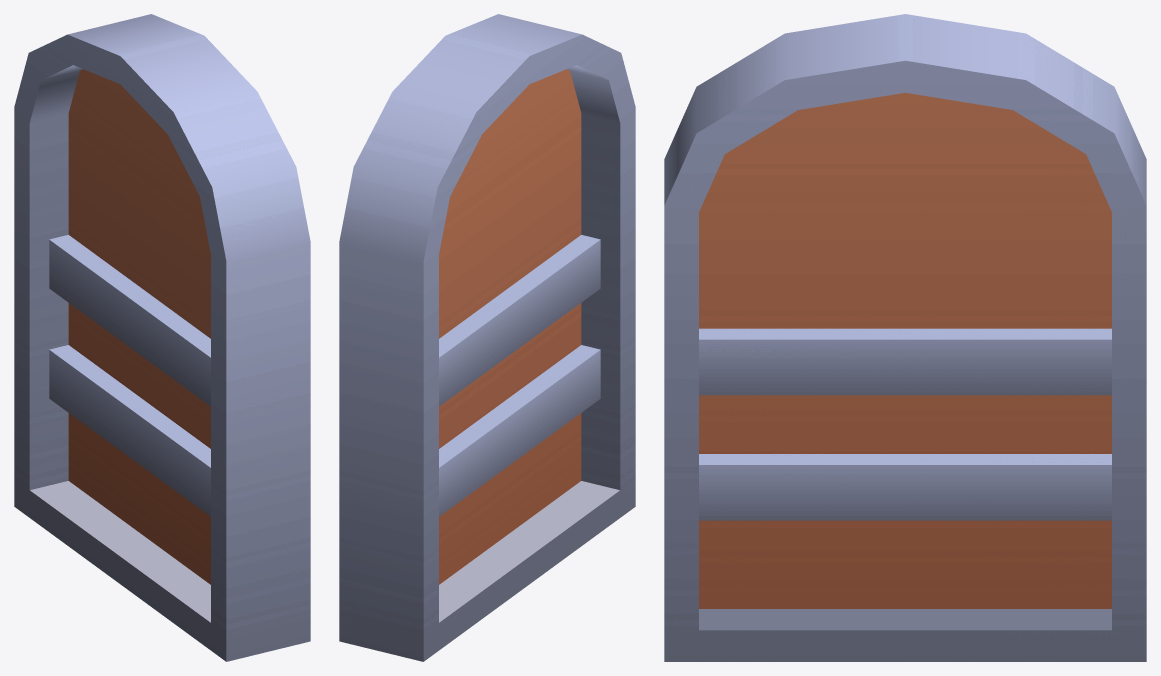
Rendered from gate.glb.
3 renders of one model, left to right at view 1: azimuth 30°, elevation 25°; view 2: azimuth 150°, elevation 25°; view 3: azimuth 270°, elevation 25°, orthographic. The views are drawn at different scales.
Visible parts, largest first — view 1: gate; view 2: gate; view 3: gate.
Boxes of the visible parts, bbox=[...] form: gate: bbox=[14, 14, 310, 661]; gate: bbox=[339, 14, 635, 661]; gate: bbox=[664, 14, 1146, 661].
Bounding box in the file's own units: 0.1516 × 0.9103 × 0.6622.
1 material, 1 textured.
